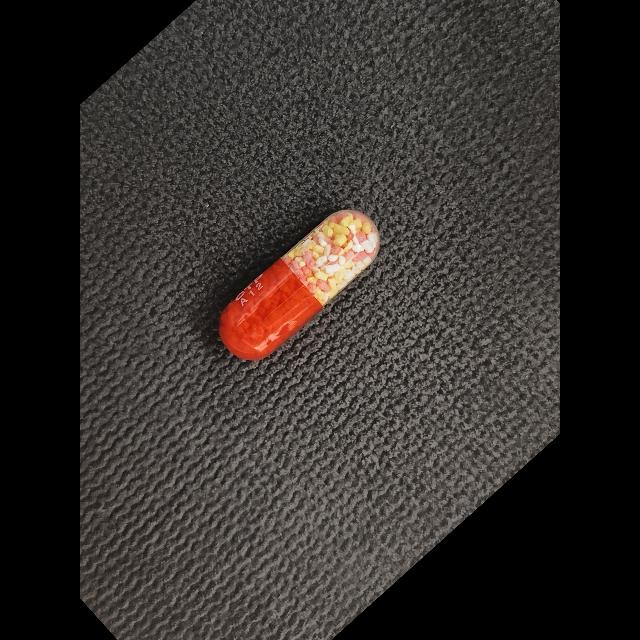Intact Capsule: (219, 210, 380, 360)
